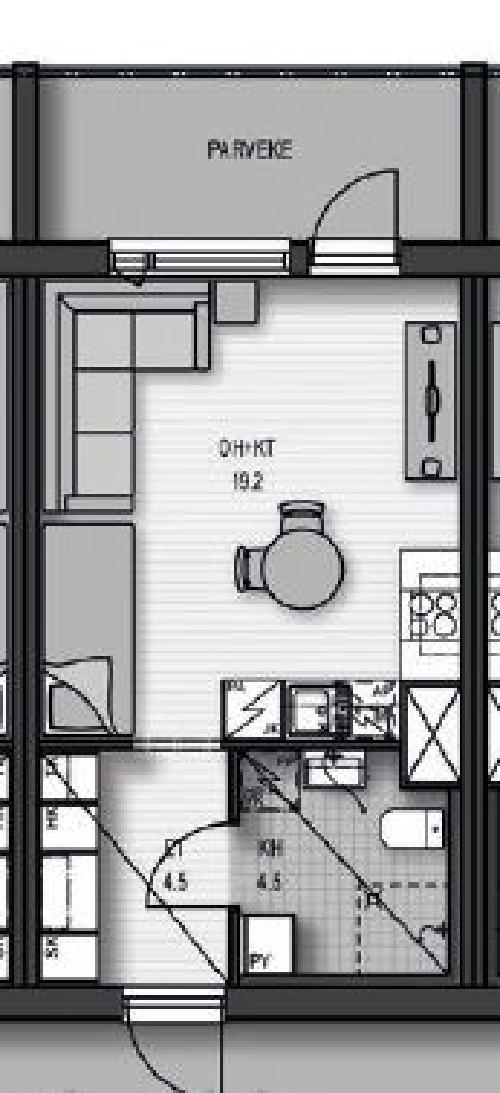door: (126, 992, 226, 1093), (133, 825, 244, 914), (314, 157, 397, 254)
window: (110, 239, 287, 275)
zone: (40, 275, 449, 743), (41, 750, 444, 973), (36, 73, 462, 241)
